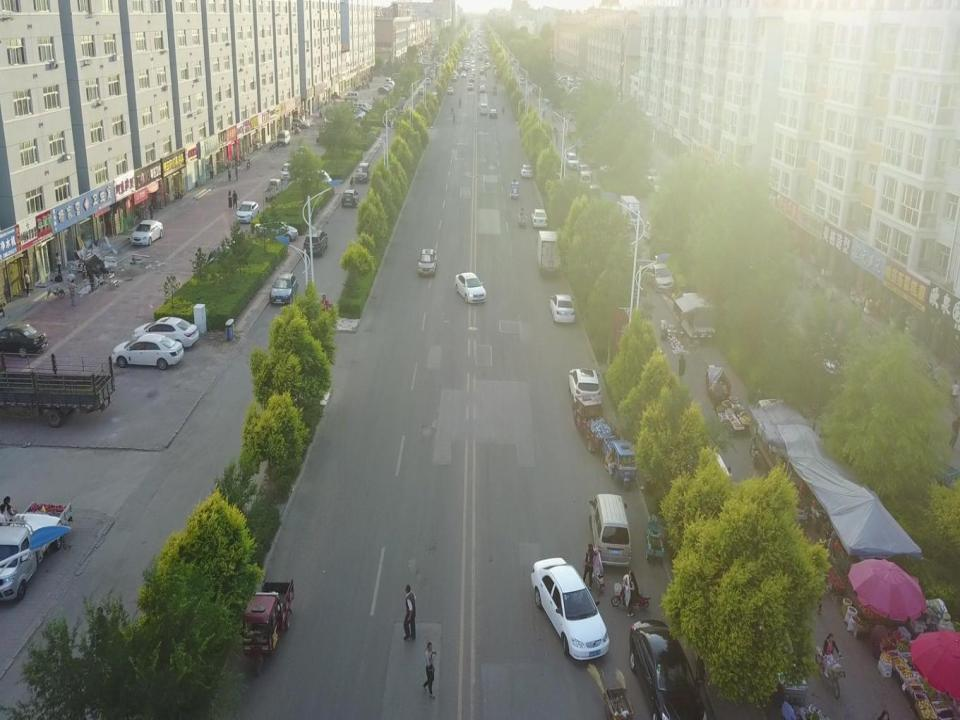car: (531, 557, 610, 661), (629, 619, 708, 720), (111, 334, 183, 370), (133, 317, 199, 348), (0, 322, 47, 357), (568, 368, 602, 408), (454, 271, 487, 304), (269, 271, 299, 305), (130, 218, 164, 246), (644, 264, 675, 294), (255, 221, 298, 241), (549, 294, 576, 324), (303, 229, 329, 257), (417, 248, 437, 276), (236, 201, 260, 223), (532, 207, 547, 228), (564, 152, 580, 170), (342, 189, 358, 206), (344, 109, 370, 119), (574, 164, 592, 178), (341, 111, 364, 121), (287, 119, 309, 128), (520, 164, 532, 178), (378, 87, 391, 93), (489, 109, 497, 117), (418, 87, 425, 95), (446, 87, 453, 94), (381, 85, 393, 89), (480, 86, 486, 92), (467, 84, 473, 89), (469, 76, 474, 82), (480, 67, 484, 74), (451, 75, 456, 80), (460, 72, 466, 76), (495, 72, 498, 77)
truck: (0, 352, 116, 428), (0, 500, 73, 601), (535, 231, 562, 278), (620, 196, 641, 232), (263, 179, 283, 200)
van: (588, 494, 631, 568), (356, 162, 370, 182), (280, 162, 294, 182), (579, 170, 591, 190), (350, 103, 372, 113), (277, 130, 289, 145), (344, 91, 359, 102), (557, 75, 572, 85), (480, 103, 488, 115)
